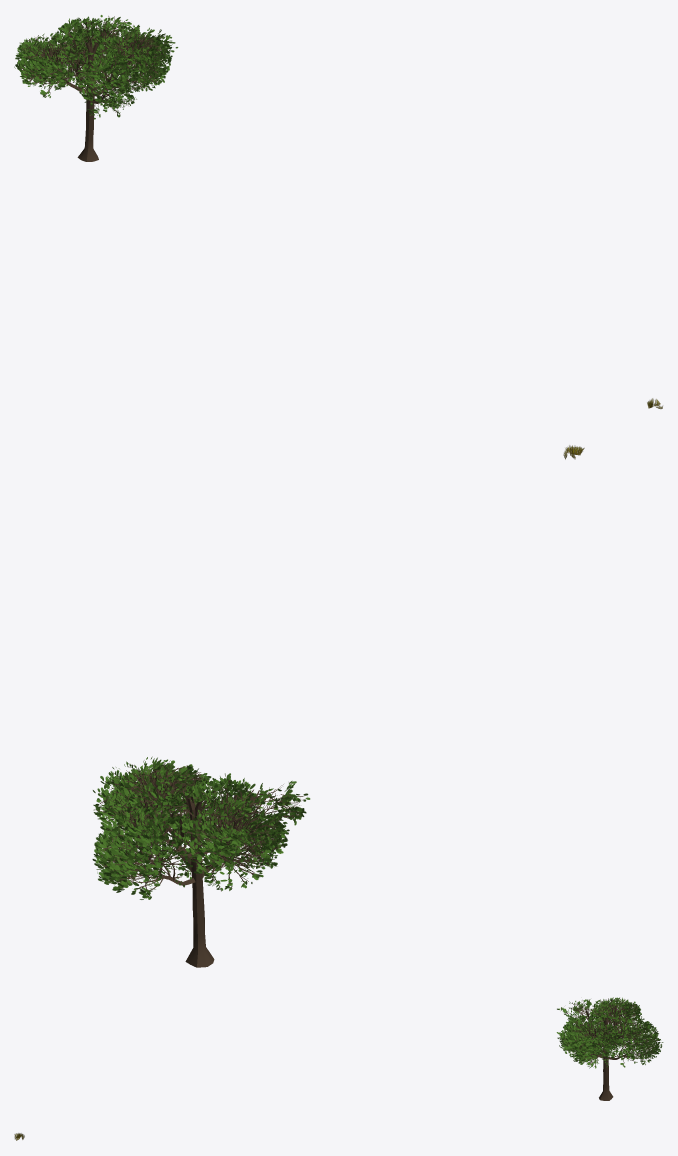
3 views of the same model, one above another, from view 1: azimuth 30°, elevation 25°; view 2: azimuth 150°, elevation 25°; view 3: azimuth 270°, elevation 25° (orthographic). The views are drawn at different scales.
Parts seen in each view (by area): view 1: Low Poly Stylized 2D Grass.3302; view 2: Low Poly Stylized 2D Grass.3302; view 3: Low Poly Stylized 2D Grass.3302.
Boxes of the visible parts, x1=… form: Low Poly Stylized 2D Grass.3302: x1=14, y1=15, x2=662, y2=408; Low Poly Stylized 2D Grass.3302: x1=92, y1=445, x2=584, y2=967; Low Poly Stylized 2D Grass.3302: x1=14, y1=997, x2=663, y2=1140.
Bounding box in the file's own units: 7.39 × 3.78 × 26.11.
3 materials, 2 textured.
